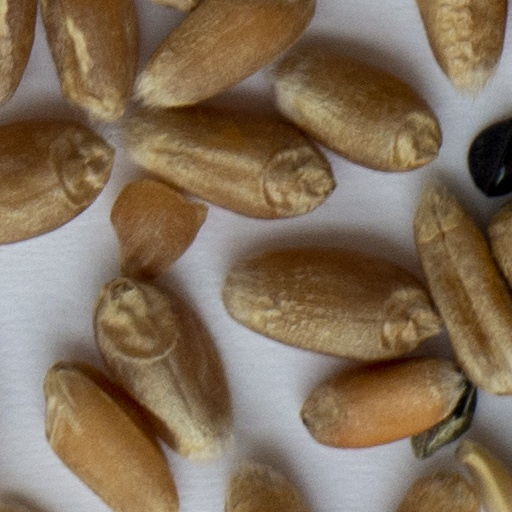Wheat-grain-damaged-poly: (107, 177, 210, 280)
